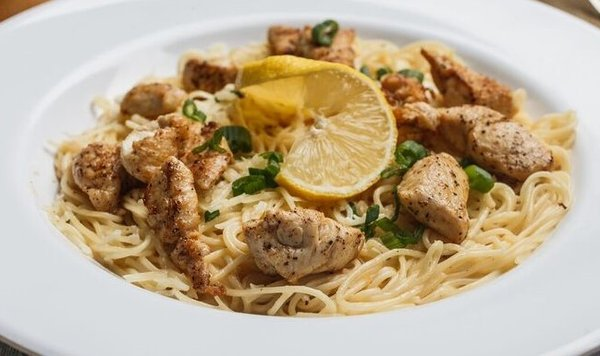sushi: (11, 4, 590, 338)
taco: (239, 57, 399, 208)
